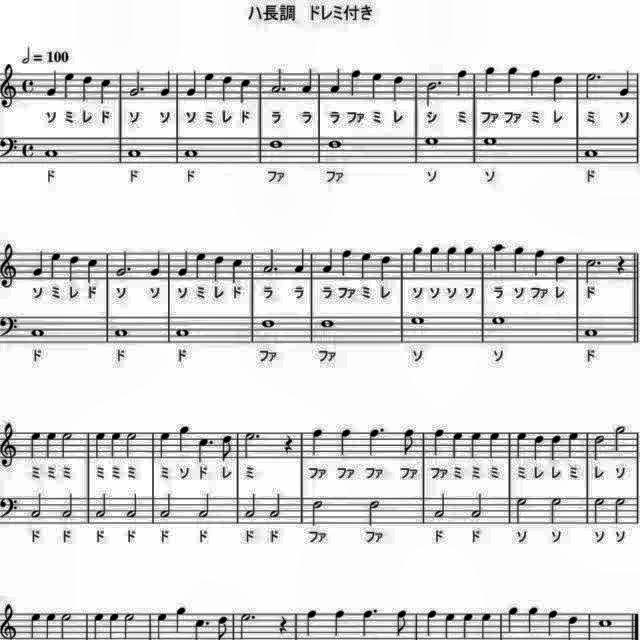Bass-clef: (0, 310, 22, 342), (0, 493, 22, 522), (0, 132, 22, 160)
Eighth-note: (392, 607, 410, 639), (399, 428, 417, 458), (218, 432, 234, 464), (214, 613, 230, 639)
Full-note: (27, 324, 49, 340), (111, 324, 132, 340), (582, 323, 602, 339), (596, 616, 616, 632), (324, 136, 344, 152), (422, 134, 442, 150), (172, 324, 192, 340), (582, 144, 602, 160), (40, 144, 60, 160), (408, 314, 428, 330), (268, 136, 286, 152), (182, 144, 200, 160), (126, 144, 144, 160), (260, 316, 280, 330), (317, 316, 337, 330), (488, 314, 508, 328), (480, 135, 500, 149)
Half-dot: (582, 70, 606, 104), (582, 254, 606, 286), (422, 78, 446, 110), (237, 608, 260, 640), (115, 249, 136, 281), (240, 428, 260, 460), (128, 69, 148, 101), (269, 66, 289, 98), (262, 247, 282, 277)
Half-note: (548, 494, 568, 526), (590, 431, 610, 461), (365, 497, 383, 529), (309, 497, 327, 529), (612, 494, 630, 526), (612, 424, 630, 456), (431, 492, 449, 522), (121, 610, 139, 640), (514, 494, 530, 526), (588, 494, 604, 526), (124, 428, 140, 460), (160, 492, 177, 522), (198, 491, 215, 521), (125, 492, 142, 522), (28, 491, 44, 522), (472, 491, 488, 522), (60, 431, 76, 462), (268, 491, 284, 521), (60, 492, 76, 522), (94, 492, 110, 522), (59, 612, 76, 640), (242, 492, 256, 520)
Quarter-dot: (363, 424, 385, 458), (358, 606, 378, 640), (195, 434, 215, 466)
Quarter-note: (302, 608, 322, 640), (548, 74, 568, 106), (27, 248, 45, 282), (617, 68, 635, 102), (366, 68, 384, 102), (451, 65, 469, 99), (525, 65, 543, 98), (24, 428, 41, 462), (337, 428, 355, 460), (377, 254, 395, 286), (389, 74, 407, 106), (489, 238, 507, 270), (326, 64, 344, 96), (308, 428, 326, 460), (529, 246, 547, 278), (551, 254, 569, 286), (422, 608, 440, 640), (504, 64, 522, 96), (510, 243, 528, 275), (542, 608, 560, 640), (91, 608, 109, 640), (408, 243, 426, 274), (429, 428, 446, 460), (158, 430, 175, 462), (175, 426, 192, 458), (202, 69, 218, 103), (296, 66, 314, 96), (25, 611, 43, 640), (66, 254, 82, 286), (426, 243, 442, 275), (218, 72, 234, 104), (78, 74, 94, 106), (348, 68, 364, 100), (566, 430, 582, 462), (90, 429, 106, 461), (154, 608, 170, 640), (444, 244, 460, 276), (356, 252, 372, 284), (524, 605, 540, 637), (460, 244, 476, 276), (332, 608, 348, 640), (62, 71, 78, 103), (42, 430, 58, 462), (48, 252, 64, 284), (238, 77, 255, 107), (563, 612, 581, 640), (450, 431, 466, 462), (486, 431, 502, 462), (514, 428, 530, 459), (441, 611, 458, 640), (457, 611, 474, 640), (478, 611, 495, 640), (43, 71, 59, 101), (156, 69, 172, 99), (98, 78, 114, 108), (506, 606, 522, 636), (146, 250, 162, 280), (470, 429, 486, 459), (548, 433, 564, 463), (482, 65, 498, 95), (104, 610, 120, 640), (319, 246, 336, 274), (230, 258, 247, 286), (42, 611, 58, 640), (86, 258, 102, 286), (290, 246, 306, 274), (340, 248, 354, 280), (176, 606, 190, 638), (194, 252, 208, 284), (530, 434, 546, 462), (108, 430, 122, 462), (176, 250, 190, 280), (184, 69, 198, 99), (212, 254, 226, 284)
Quarter-rest: (614, 252, 630, 278), (276, 613, 292, 639), (280, 434, 296, 458)
Treble-clef: (0, 237, 20, 290), (0, 420, 20, 472), (1, 63, 20, 114)
